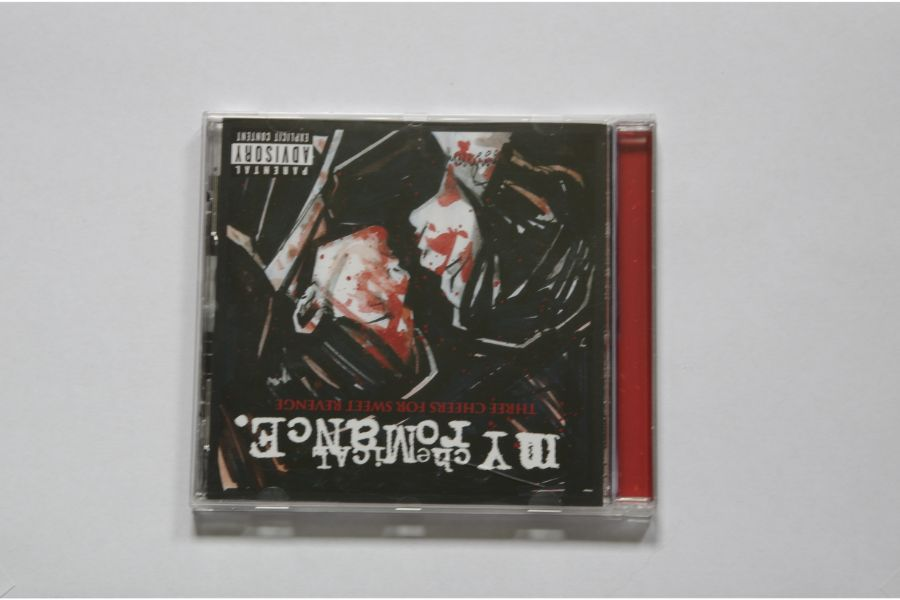album: (192, 107, 661, 520)
